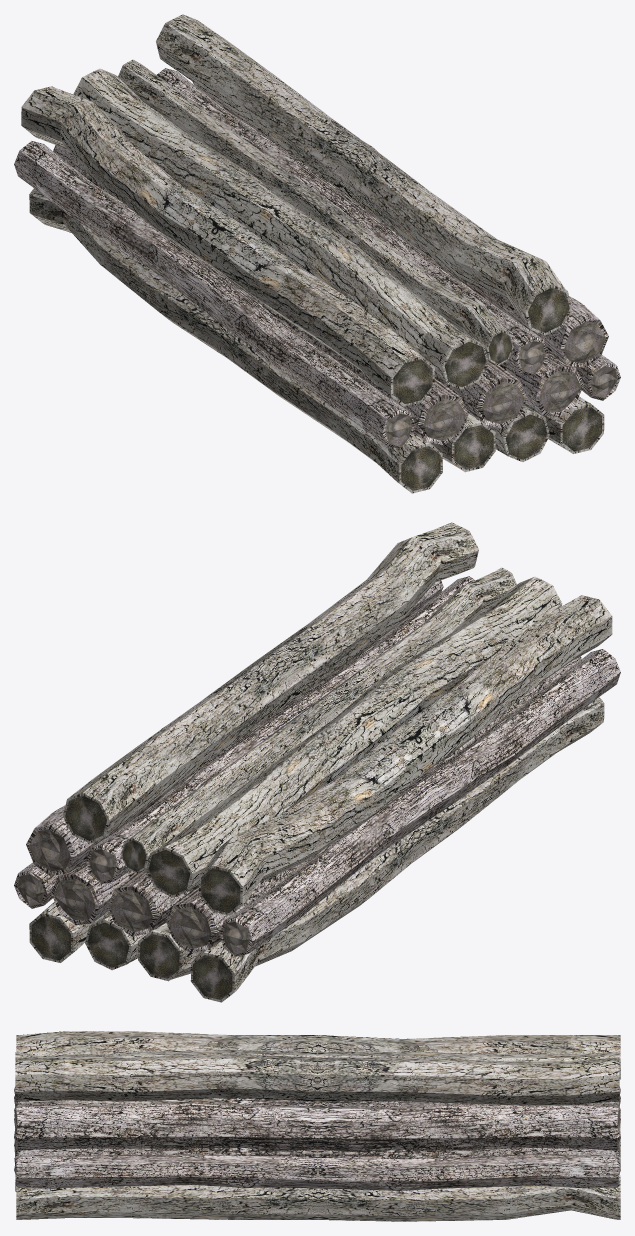
Rendered from wood_stack.dae.
3 views of the same model, one above another, from view 1: azimuth 30°, elevation 25°; view 2: azimuth 150°, elevation 25°; view 3: azimuth 270°, elevation 25° (orthographic). The views are drawn at different scales.
Parts seen in each view (by area): view 1: Object01; view 2: Object01; view 3: Object01.
Part boxes in pixels (x1,y1,x2,y2): Object01: (14,14,620,493); Object01: (14,522,620,1002); Object01: (14,1031,620,1221).
Bounding box in the file's own units: 0.9154 × 2.43 × 0.6684.
Materials: 4 (4 with a texture image).
